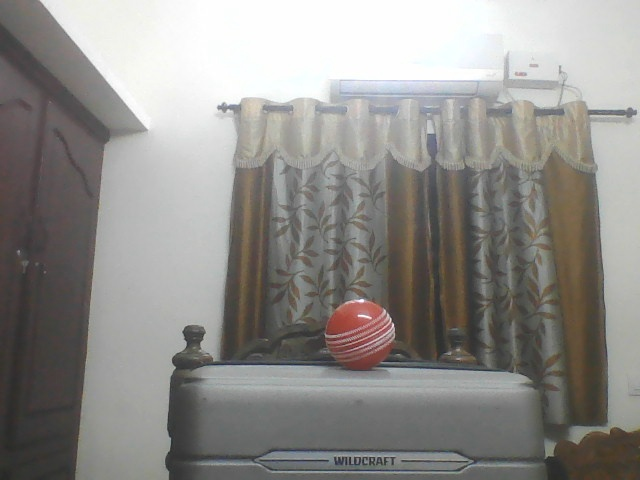cricket_ball: (320, 294, 401, 372)
